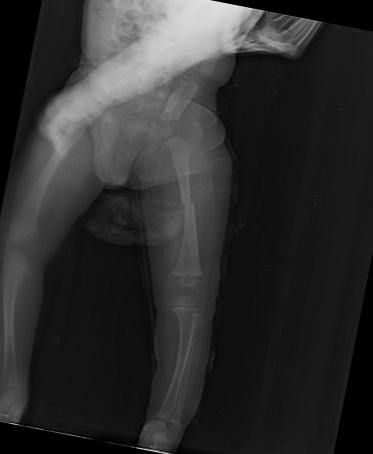fractured: (177, 193, 194, 212)
